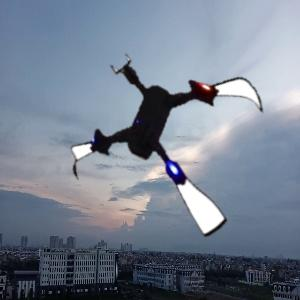drone: (69, 40, 278, 249)
